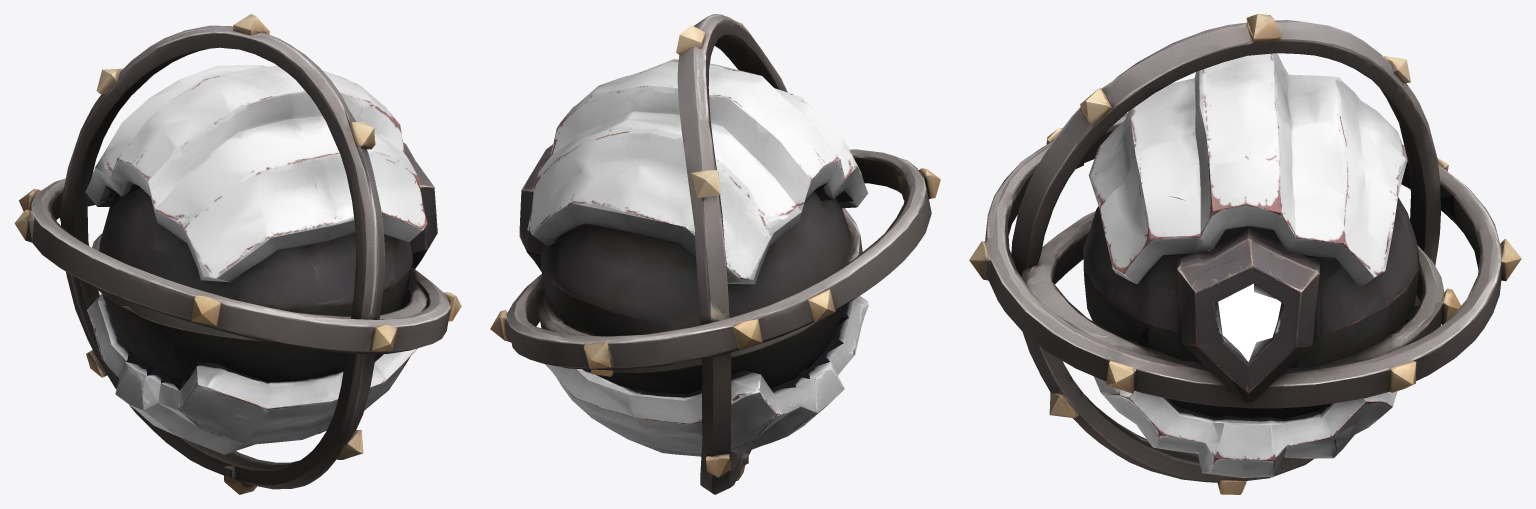
Rendered from gravity_node.glb.
3 renders of one model, left to right at view 1: azimuth 30°, elevation 25°; view 2: azimuth 150°, elevation 25°; view 3: azimuth 270°, elevation 25°, orthographic. The views are drawn at different scales.
Visible parts, largest first — view 1: shell_u, ring_b, core, ring_a, shell_l, body; view 2: shell_u, ring_a, core, shell_l, ring_b, body; view 3: shell_u, ring_a, ring_b, body, shell_l, core.
Boxes of the visible parts, box(x1,y1,x2,y2) form: shell_u: box(85, 65, 427, 282); ring_b: box(51, 14, 384, 494); core: box(92, 187, 412, 382); ring_a: box(14, 158, 461, 390); shell_l: box(87, 290, 417, 454); body: box(403, 142, 437, 267); shell_u: box(527, 59, 868, 304); ring_a: box(490, 149, 940, 377); core: box(541, 190, 862, 388); shell_l: box(545, 295, 868, 456); ring_b: box(676, 14, 787, 494); body: box(519, 144, 553, 267); shell_u: box(1088, 53, 1416, 305); ring_a: box(969, 113, 1521, 416); ring_b: box(1012, 14, 1460, 494); body: box(1148, 226, 1352, 391); shell_l: box(1087, 295, 1419, 477); core: box(1049, 197, 1419, 354).
Bounding box in the file's own units: 0.7746 × 0.95 × 0.9645.
Materials: 3 (3 with a texture image).
